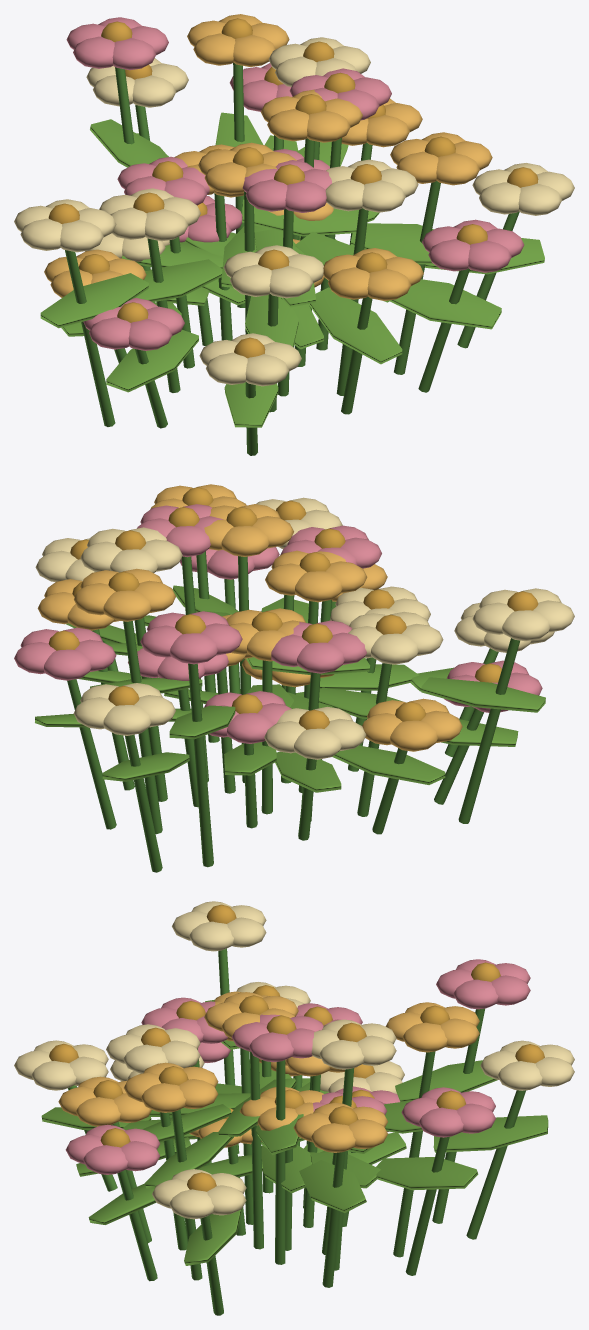
The model's file is LV_BUI_HOA_01.glb.
3 renders of one model, top to bottom at view 1: azimuth 30°, elevation 25°; view 2: azimuth 150°, elevation 25°; view 3: azimuth 270°, elevation 25°, orthographic. The views are drawn at different scales.
Visible parts, largest first — view 1: tips-surface-6b9c41, tips-surface-e8d6a1, tips-surface-e0ae59, tips-surface-d38492, tips-surface-53873a, tips-surface-c9993e; view 2: tips-surface-e8d6a1, tips-surface-d38492, tips-surface-53873a, tips-surface-6b9c41, tips-surface-e0ae59, tips-surface-c9993e; view 3: tips-surface-6b9c41, tips-surface-e8d6a1, tips-surface-53873a, tips-surface-e0ae59, tips-surface-d38492, tips-surface-c9993e.
Boxes of the visible parts, x1,y1,x2,y2 form: tips-surface-6b9c41: (40, 112, 544, 427); tips-surface-e8d6a1: (14, 37, 574, 386); tips-surface-e0ae59: (44, 14, 492, 300); tips-surface-d38492: (66, 17, 524, 350); tips-surface-53873a: (65, 62, 519, 455); tips-surface-c9993e: (48, 18, 538, 358); tips-surface-e8d6a1: (35, 497, 574, 759); tips-surface-d38492: (14, 504, 542, 743); tips-surface-53873a: (67, 551, 519, 872); tips-surface-6b9c41: (35, 585, 545, 792); tips-surface-e0ae59: (37, 484, 462, 751); tips-surface-c9993e: (48, 487, 538, 729); tips-surface-6b9c41: (41, 999, 548, 1265); tips-surface-e8d6a1: (14, 901, 574, 1219); tips-surface-53873a: (68, 948, 526, 1315); tips-surface-e0ae59: (58, 991, 479, 1152); tips-surface-d38492: (65, 959, 530, 1174); tips-surface-c9993e: (49, 904, 544, 1191).
Bounding box in the file's own units: 1.29 × 0.6249 × 1.24.
